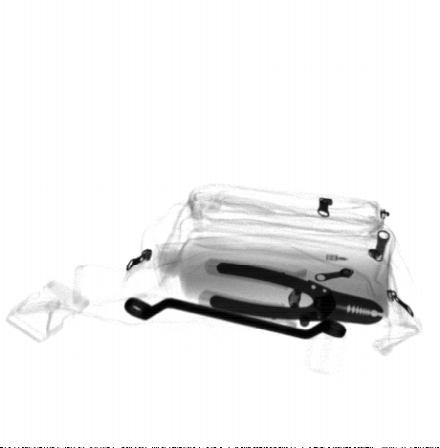Pliers: (209, 260, 386, 325)
Wrench: (122, 296, 346, 340)
